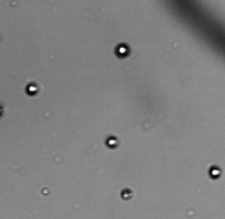Dead Cell: (121, 187, 133, 201)
Living Cell: (114, 42, 130, 58), (209, 165, 221, 180), (25, 83, 38, 95), (107, 136, 118, 148)
